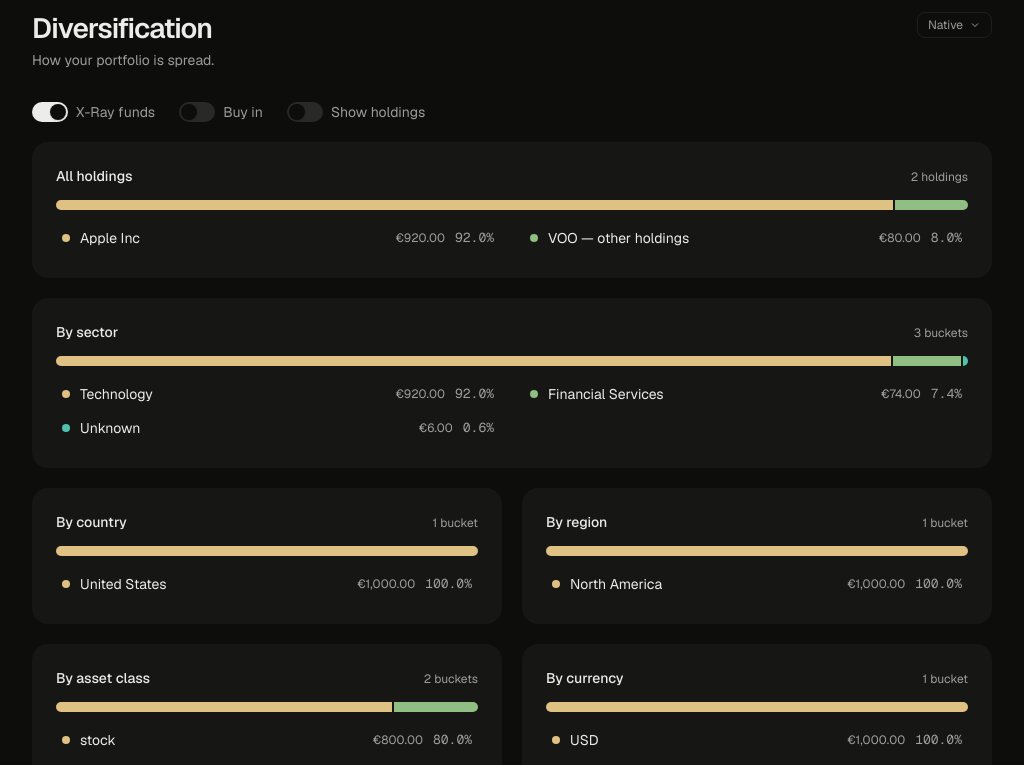
Test case: DiversificationClient toggles › Buy in recomputes every percent from cost basis, without refetching
The image size is (1024, 765).
Expected: the text "80.0%" is shown, [433,730,472,749]
Click the switch named "Buy in" next to "Buy in" at (197, 112), box [179,102,215,122]
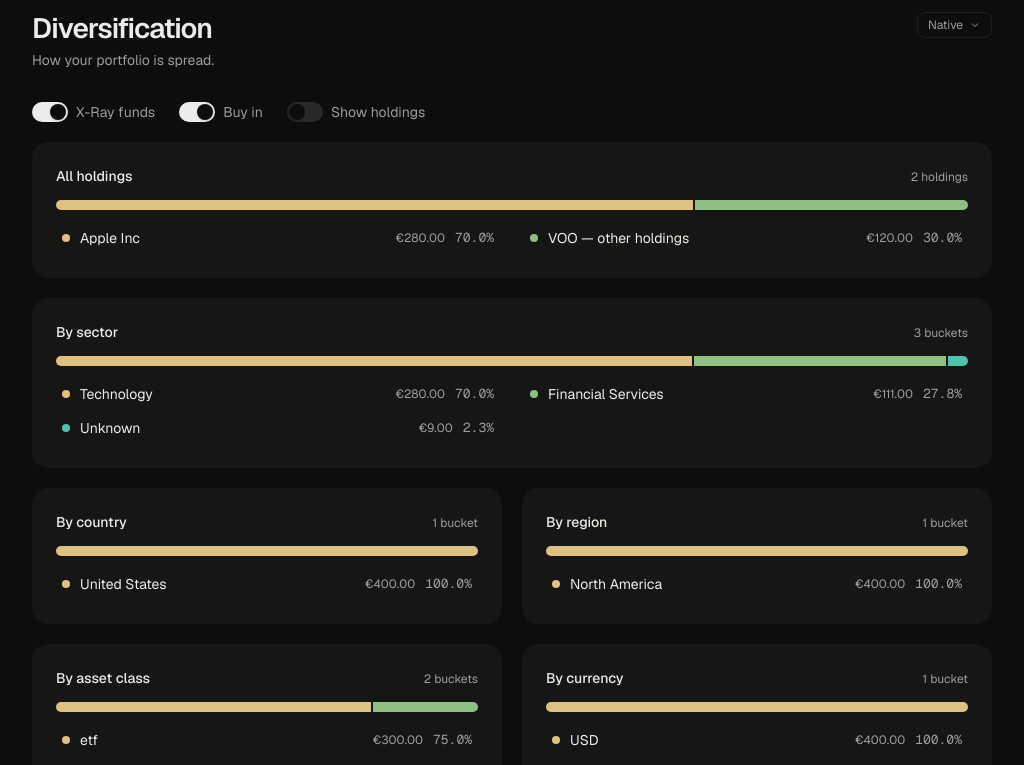
Expected: the text "80.0%" is not shown
Expected: the text "75.0%" is shown, [433,730,472,749]
